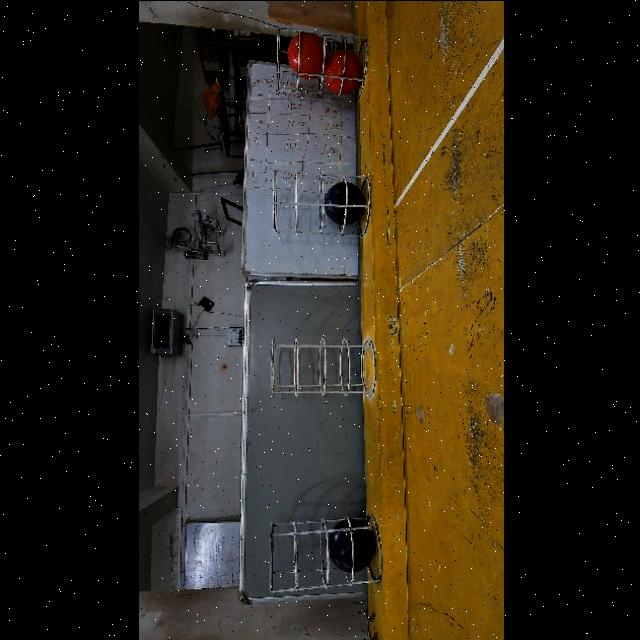P: (331, 523, 377, 571), (324, 181, 366, 225)
R: (286, 31, 323, 78), (323, 48, 361, 93)
S: (263, 520, 387, 590), (268, 160, 370, 234), (270, 334, 386, 396), (264, 34, 372, 90)
